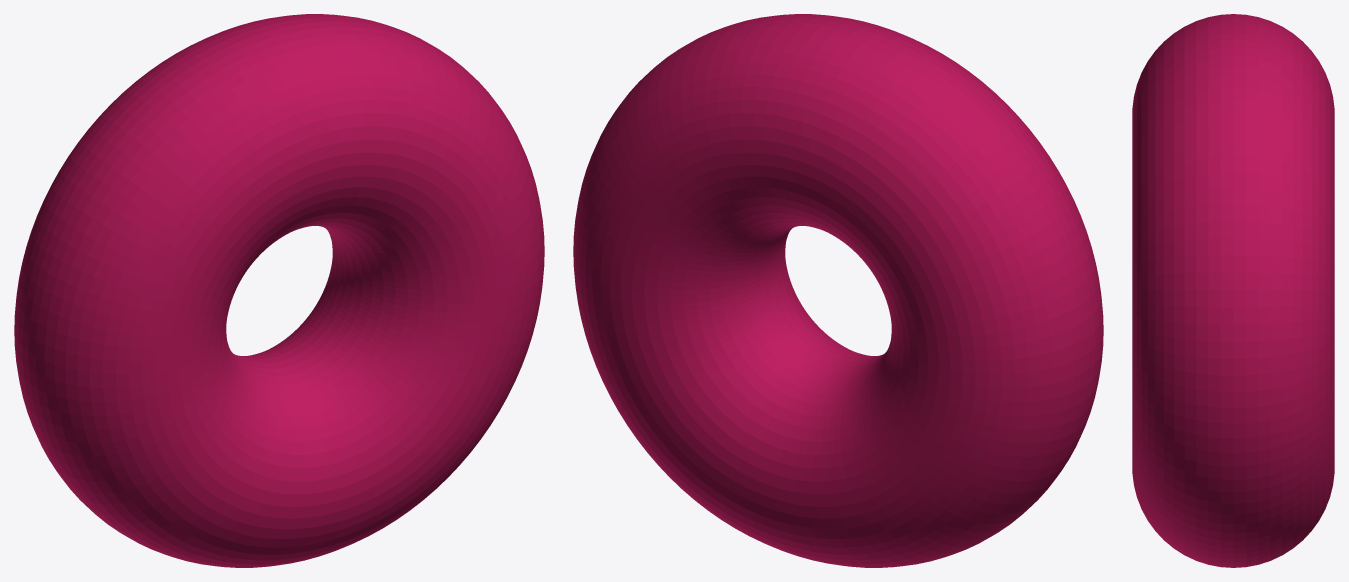
The picture shows the model from 3 angles, left to right: view 1: azimuth 30°, elevation 25°; view 2: azimuth 150°, elevation 25°; view 3: azimuth 270°, elevation 25°; orthographic projection. The views are drawn at different scales.
Visible parts, largest first — view 1: world; view 2: world; view 3: world.
Part boxes in pixels (x1,y1,x2,y2): world: (14, 14, 544, 567); world: (573, 14, 1103, 567); world: (1132, 14, 1334, 567).
Bounding box in the file's own units: 27.33 × 27.33 × 9.98.
